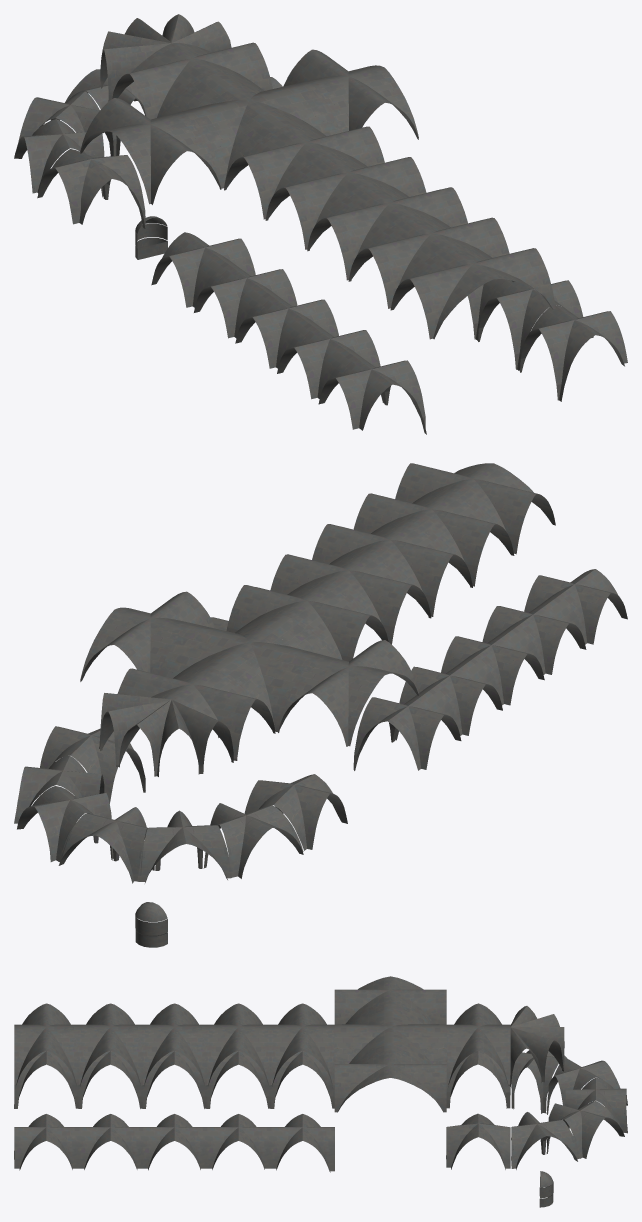
Rendered from Indoor_MdBuild_Church01_1265_0.fbx.
3 views of the same model, one above another, from view 1: azimuth 30°, elevation 25°; view 2: azimuth 150°, elevation 25°; view 3: azimuth 270°, elevation 25° (orthographic). The views are drawn at different scales.
Parts seen in each view (by area): view 1: Indoor_MdBuild_Church01_1265_0; view 2: Indoor_MdBuild_Church01_1265_0; view 3: Indoor_MdBuild_Church01_1265_0.
Boxes of the visible parts, <box> form: Indoor_MdBuild_Church01_1265_0: <box>14,14,627,434</box>; Indoor_MdBuild_Church01_1265_0: <box>14,463,627,947</box>; Indoor_MdBuild_Church01_1265_0: <box>14,976,627,1207</box>.
Size of the model in its own units: 30.55 by 24.13 by 76.72.
